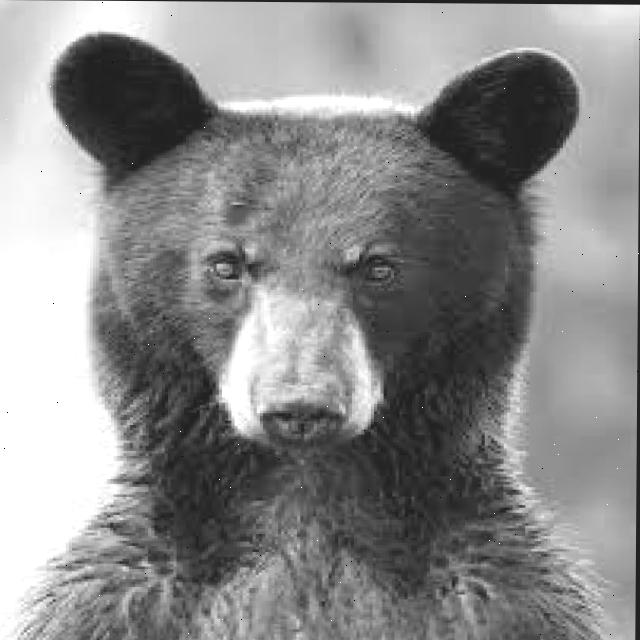Bear: (43, 32, 618, 540)
